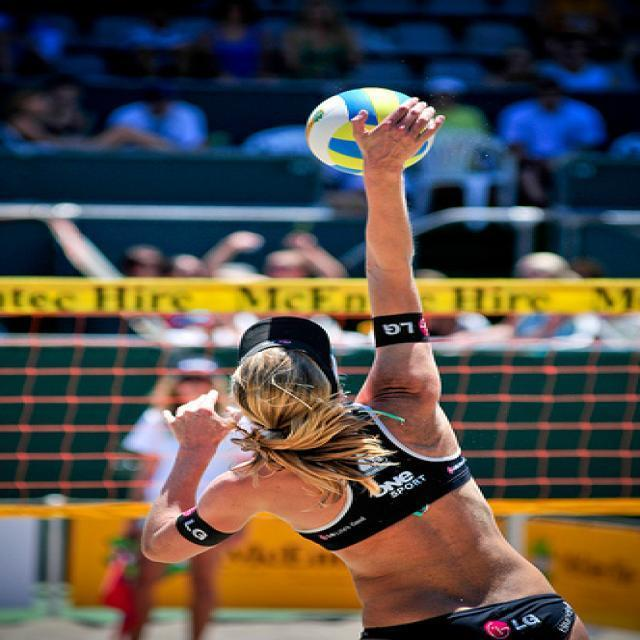volleyball: (306, 88, 412, 176)
